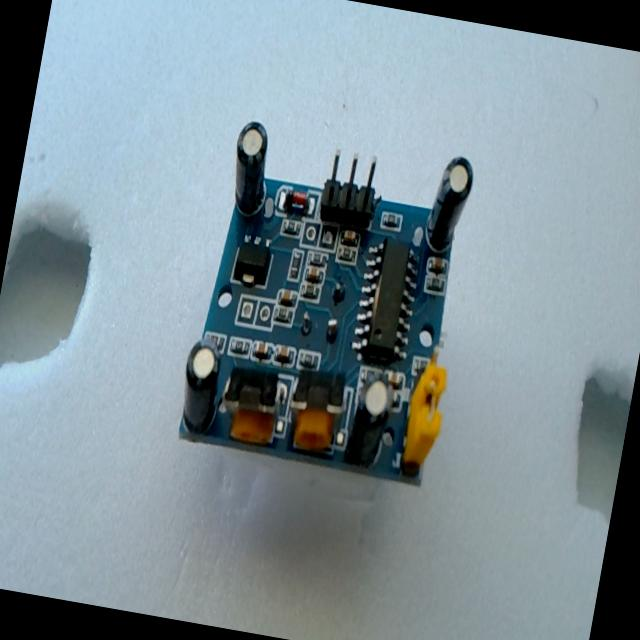Electrolytic capacitor: (422, 152, 476, 256), (224, 117, 276, 218), (174, 338, 226, 438), (344, 374, 396, 469)
IC: (348, 235, 424, 366)
pinheader: (316, 147, 386, 230)
